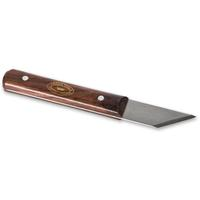knife: (3, 61, 195, 137)
